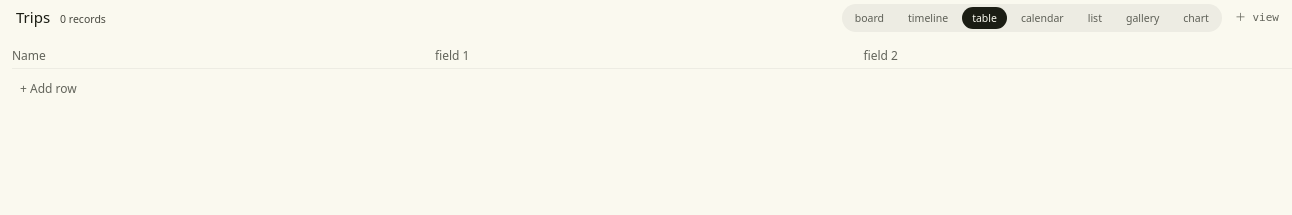
CollectionTable — rename a field from its header (KAN-380) › committing a new name writes the schema, logs the edit, and stages an undo toast
The width and height of the screenshot is (1292, 215).
Click the button "field 2" at x=881, y=56, box [863,48,1280,64]
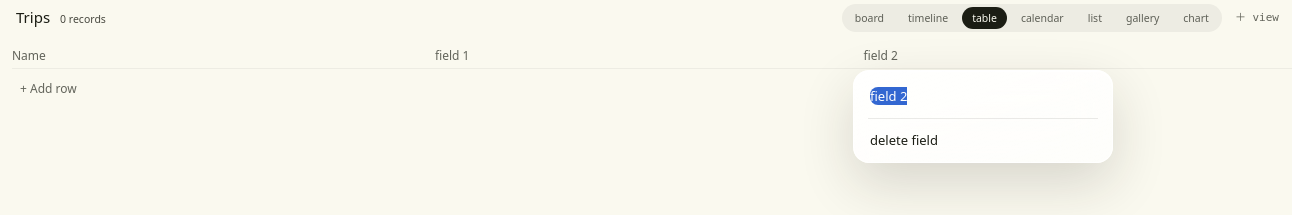
Clear the field named "field name" at x=983, y=96, box [870,87,1096,105]
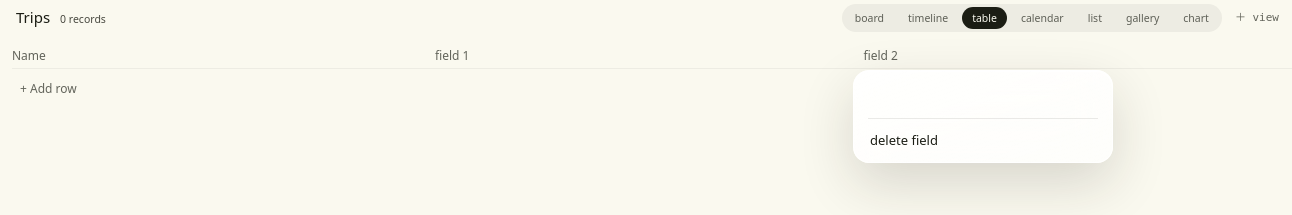
Type keys "due{Enter}"
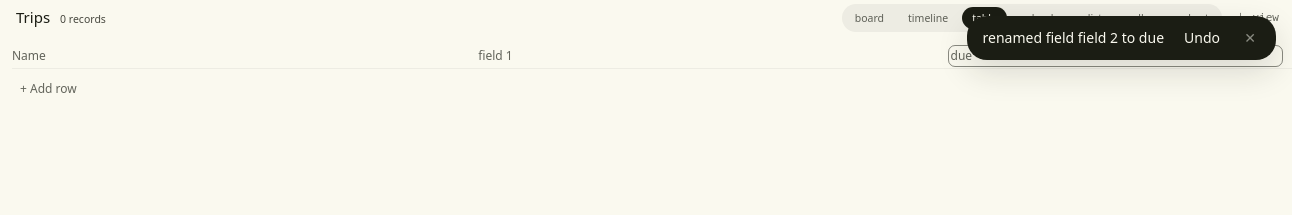
Now the button "due" is shown, box [950,48,1280,64]
Now the text "renamed field field 2 to due" is shown, box [982,28,1164,48]
